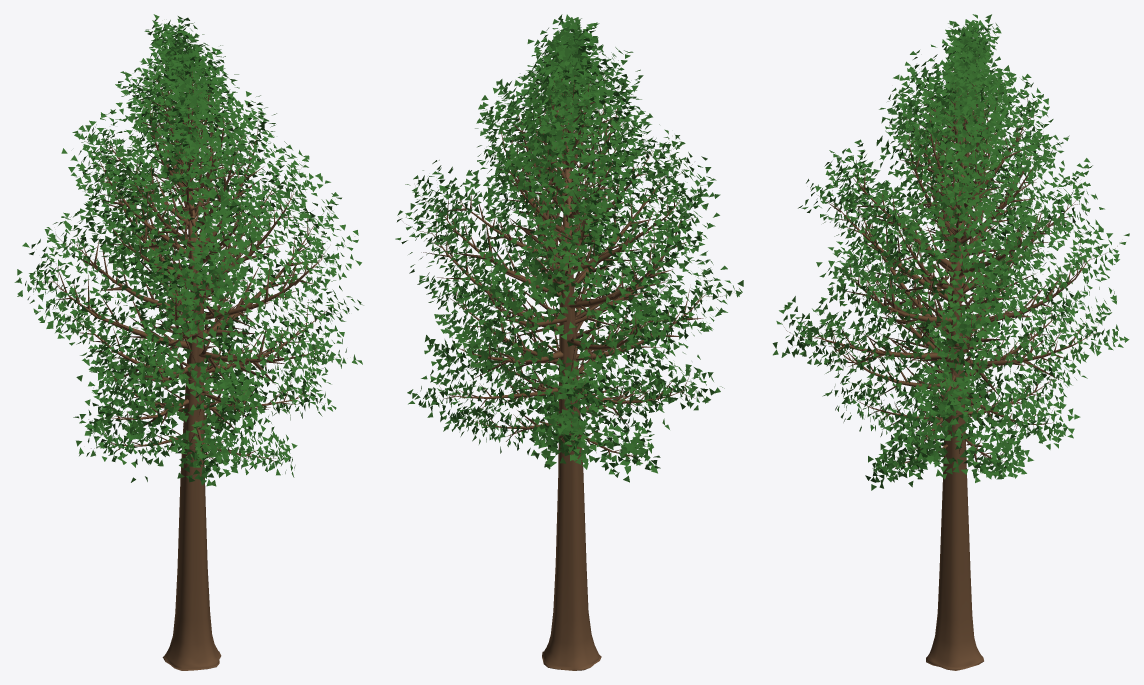
The model's file is tree.obj.
The picture shows the model from 3 angles, left to right: view 1: azimuth 30°, elevation 25°; view 2: azimuth 150°, elevation 25°; view 3: azimuth 270°, elevation 25°; orthographic projection. The views are drawn at different scales.
Parts seen in each view (by area): view 1: leaves, stems_2, trunk, stems_1; view 2: leaves, stems_2, trunk, stems_1; view 3: leaves, stems_2, trunk, stems_1.
Part boxes in pixels (<box>): leaves: <box>14,14,363,486</box>; stems_2: <box>34,51,339,465</box>; trunk: <box>162,152,221,670</box>; stems_1: <box>50,47,323,459</box>; leaves: <box>395,14,743,482</box>; stems_2: <box>406,45,727,463</box>; trunk: <box>542,122,601,670</box>; stems_1: <box>430,54,706,455</box>; leaves: <box>772,14,1129,490</box>; stems_2: <box>784,54,1117,472</box>; trunk: <box>926,120,983,670</box>; stems_1: <box>805,68,1096,465</box>.
Bounding box in the file's own units: 3.59 × 7.06 × 3.6.
